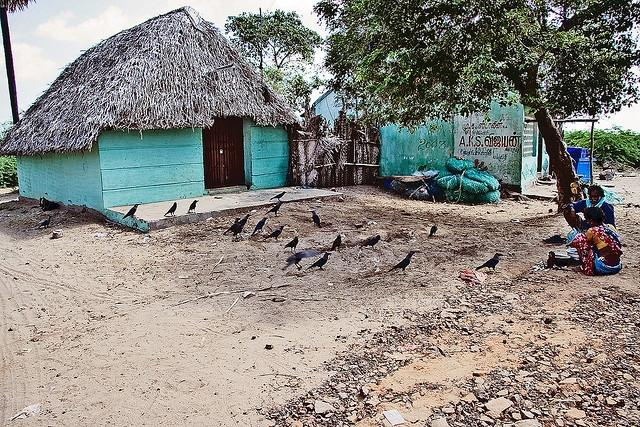apple: (420, 188, 424, 192)
